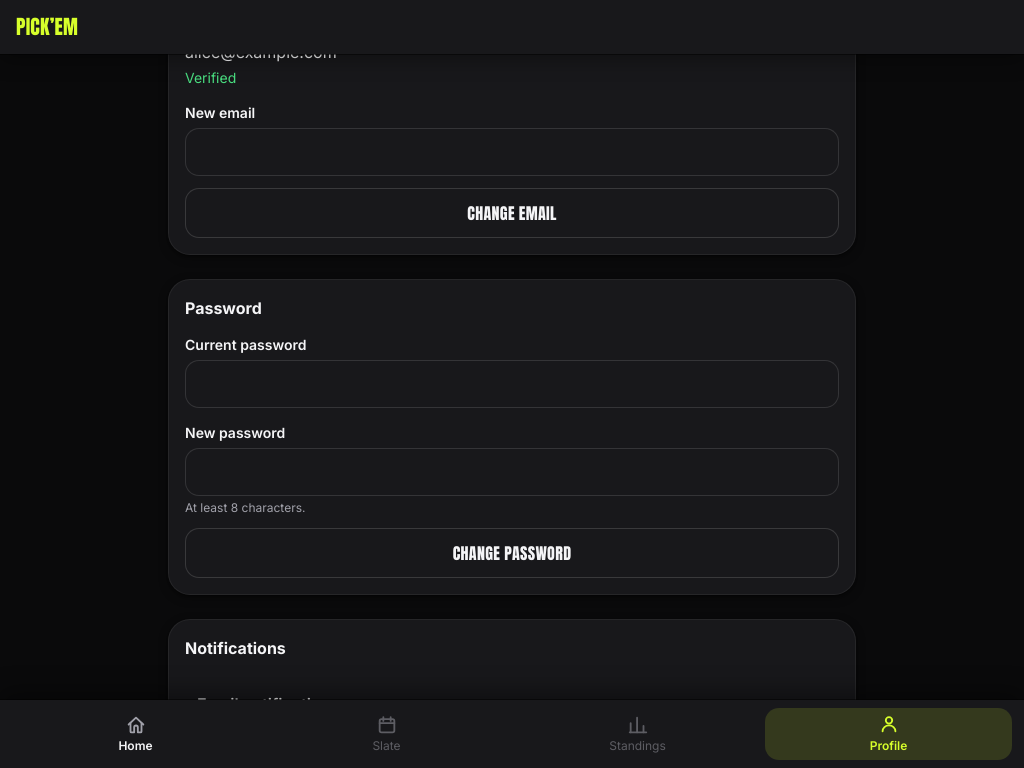
Test: ProfileScreen › changing the password surfaces CURRENT_PASSWORD_INCORRECT as a calm message
This screenshot has width=1024, height=768.
(page scrolled)
Step 1. Type "wrong" into the password field labelled "Current password" → (512, 384), box x1=185 y1=360 x2=839 y2=408
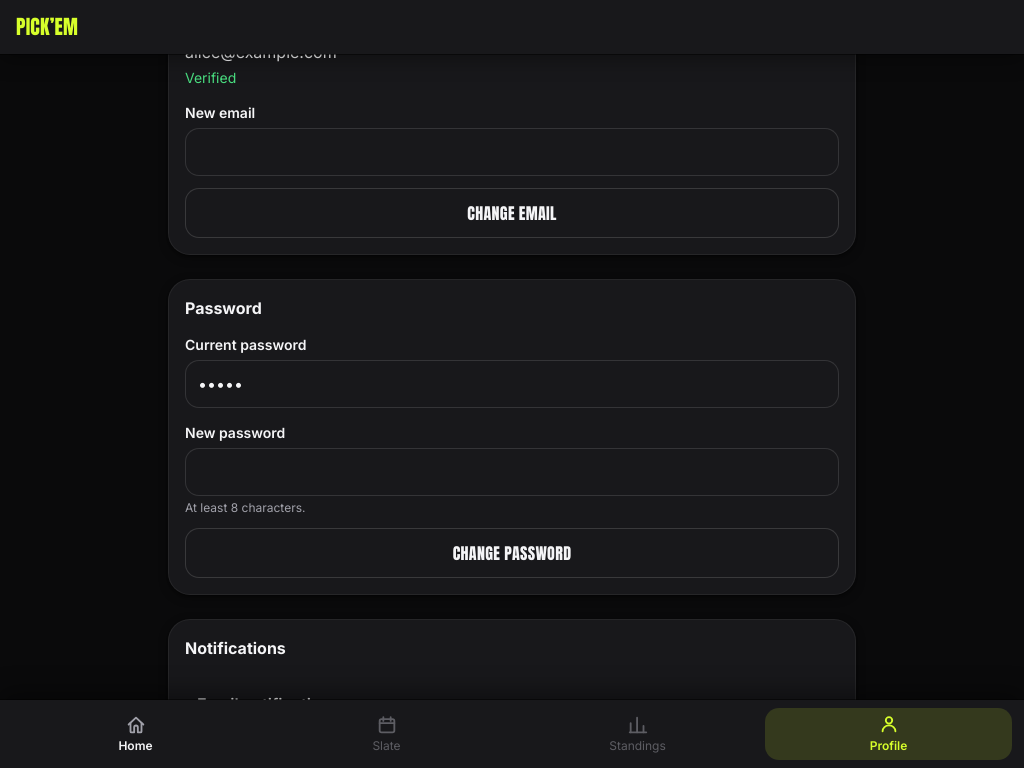
Step 2. Type "newpassword123" into the password field labelled "New password" → (512, 472), box x1=185 y1=448 x2=839 y2=496
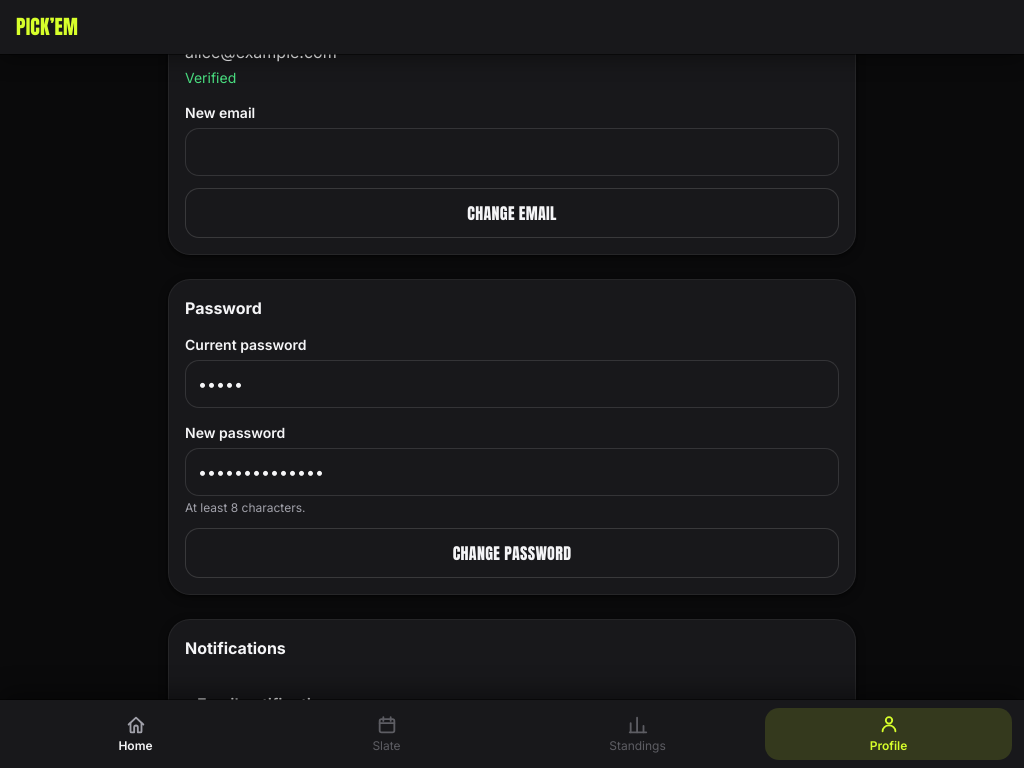
Step 3. Click the button "Change password" → (512, 553), box x1=185 y1=528 x2=839 y2=578
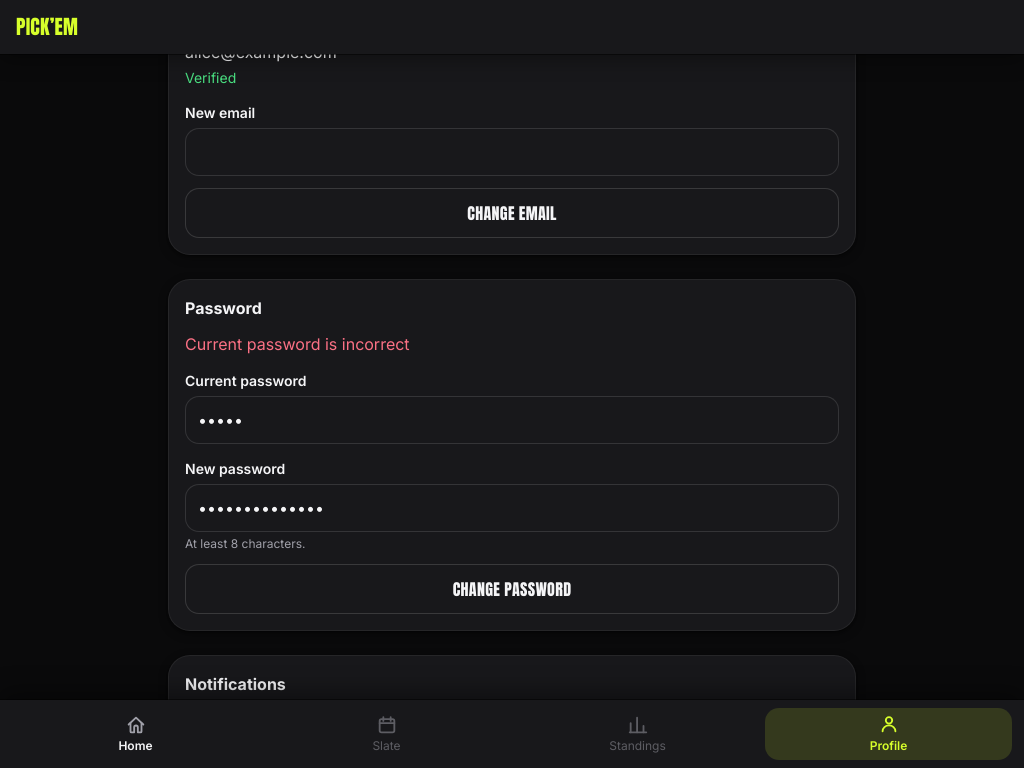
Check: the text "Current password is incorrect" is shown, box x1=185 y1=334 x2=410 y2=354
